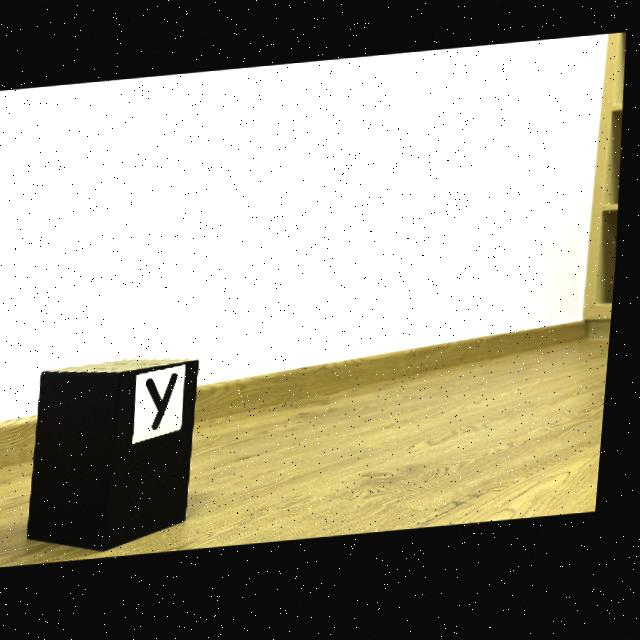Y: (152, 375, 184, 432)
